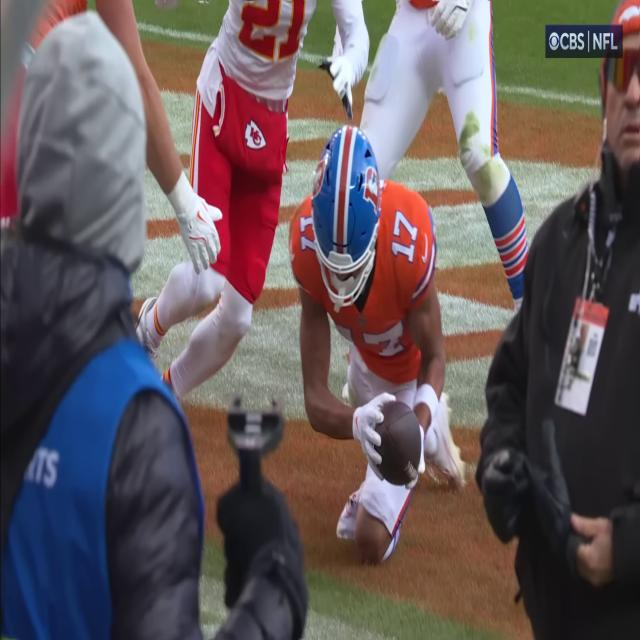Player: (290, 134, 440, 563), (154, 0, 312, 397)
